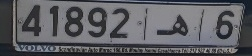1: (46, 4, 62, 41)
2: (109, 7, 133, 40)
4: (20, 4, 43, 40)
6: (214, 8, 235, 42)
8: (64, 3, 85, 39)
9: (87, 5, 109, 39)
h: (155, 11, 192, 41)
